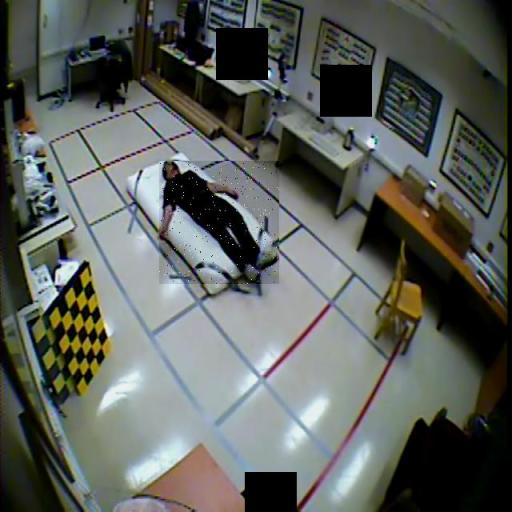Fall: (159, 162, 279, 287)
